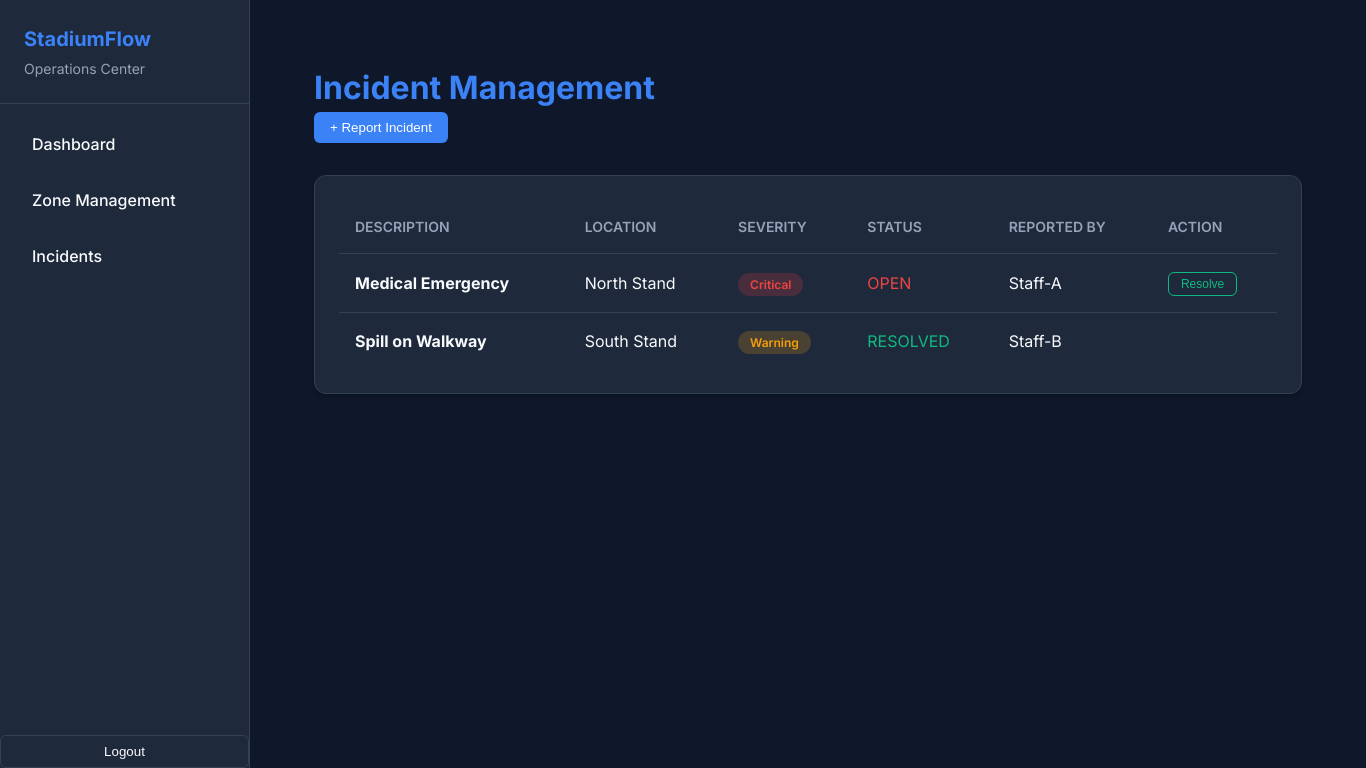
Test: Report Incident Workflow › opens the report form when Report Incident is clicked
Click the button with aria-label "Report a new incident": (381,128) left=314, top=112, right=448, bottom=143
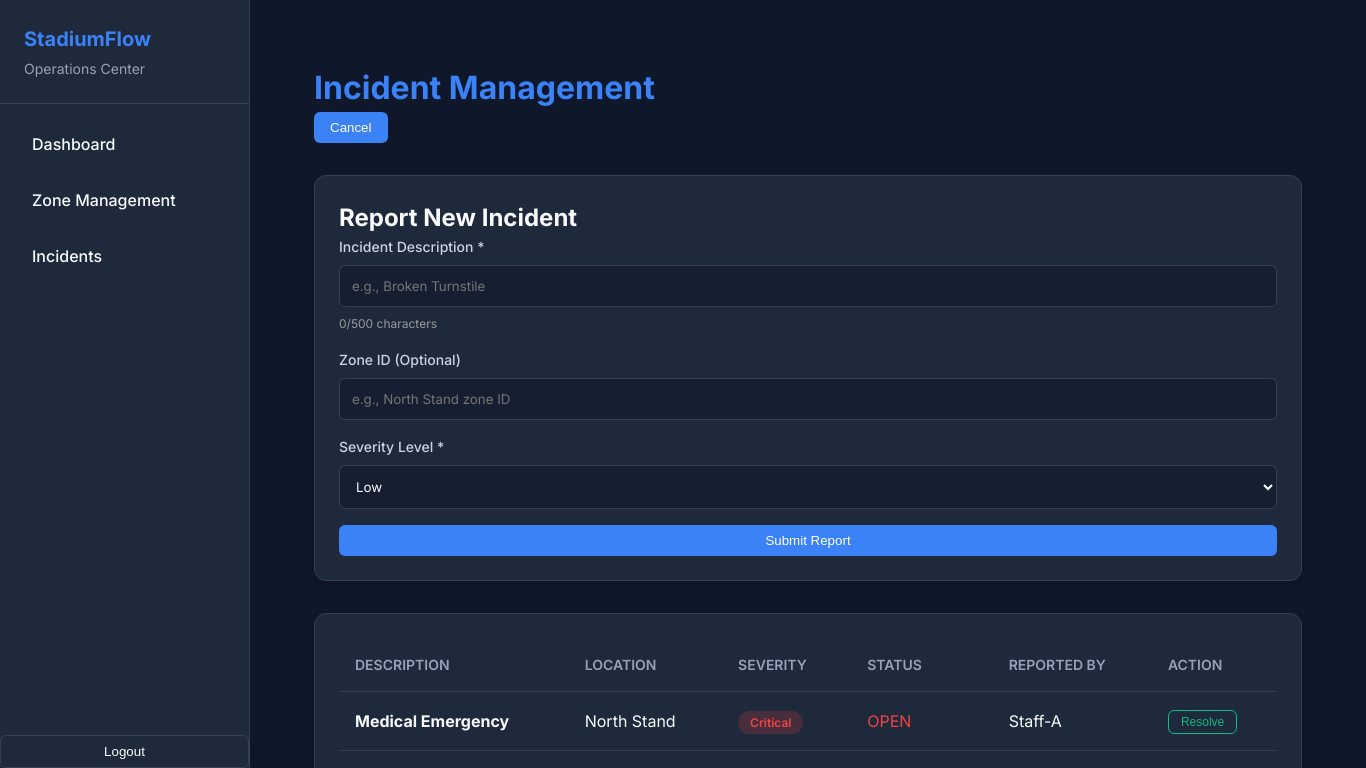
Expected: the heading "Report New Incident" is shown, left=339, top=203, right=577, bottom=232
